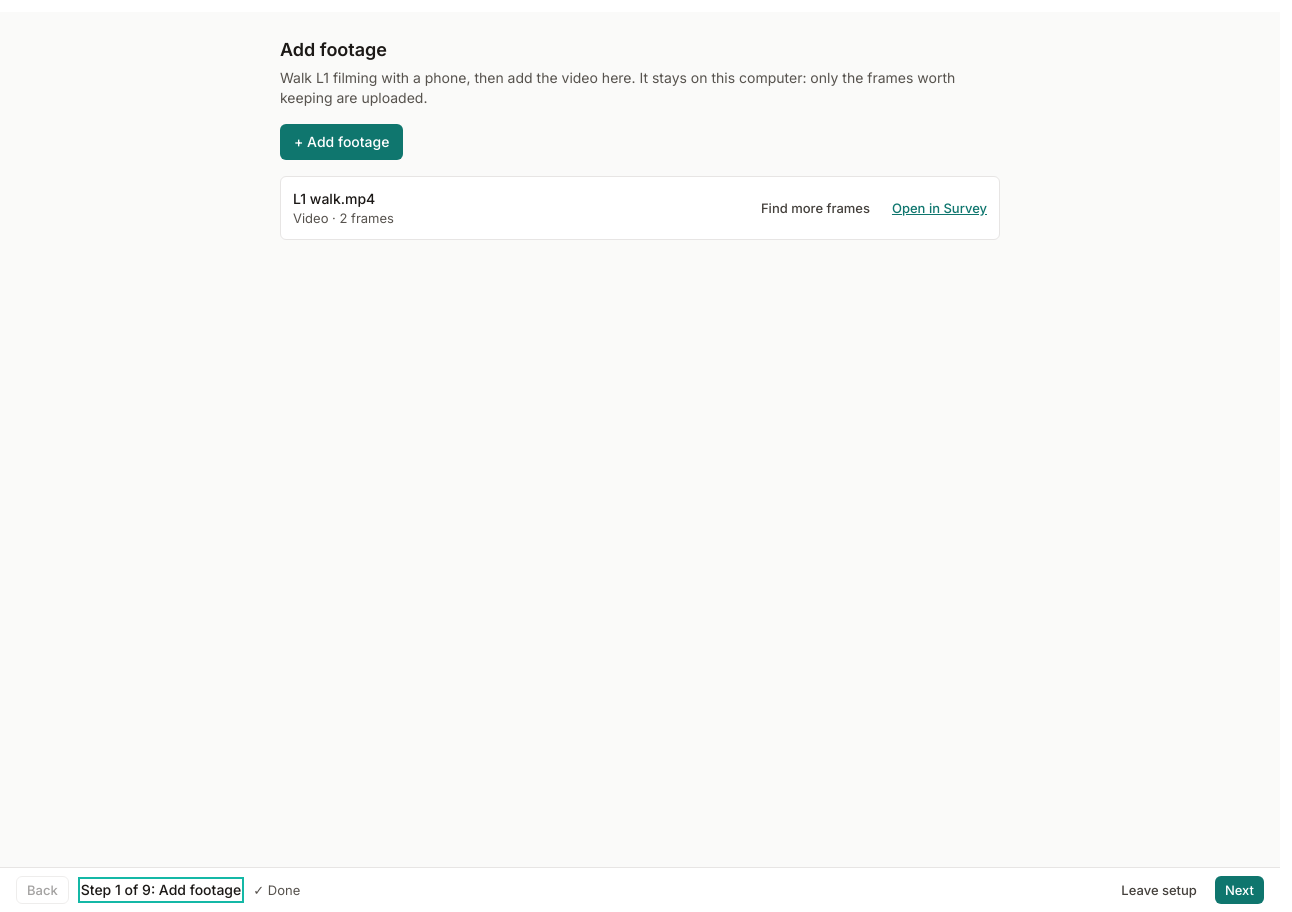
Scenario: SetupWizard › keeps the bar's warning in one live region whose words change
The width and height of the screenshot is (1292, 912).
Check: the heading "Add footage" is shown, box [280,39,387,60]
Click the button "Next" at (1239, 890), box [1215,876,1264,904]
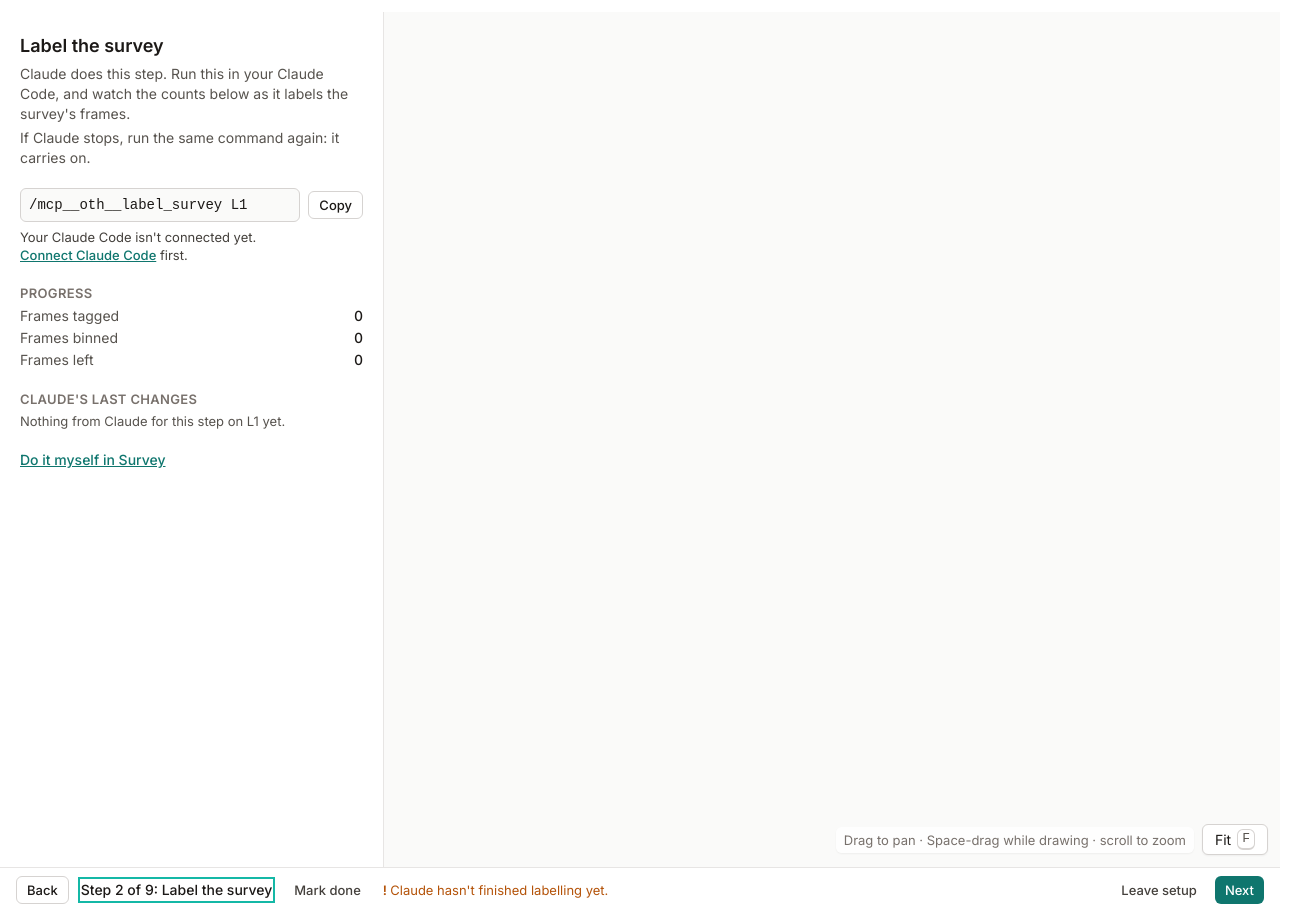
Check: the message reads "! Claude hasn't finished labelling yet.", box [383,881,608,899]
